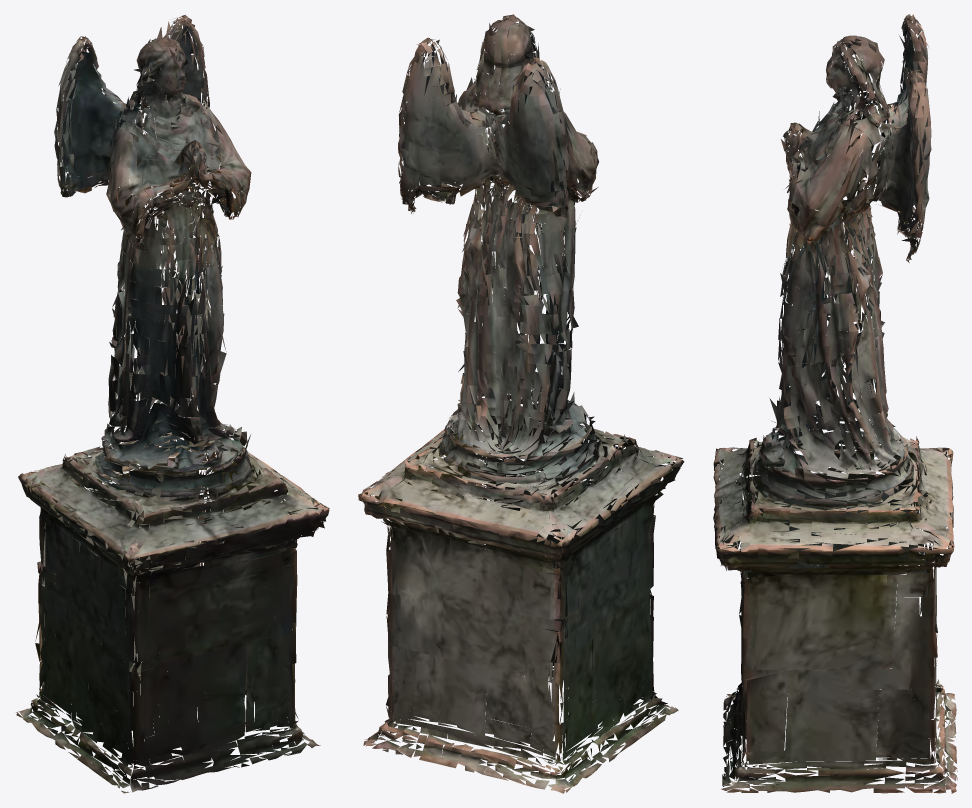
The model's file is t_angel_pedestal.glb.
3 views of the same model, side by side, from view 1: azimuth 30°, elevation 25°; view 2: azimuth 150°, elevation 25°; view 3: azimuth 270°, elevation 25° (orthographic). The views are drawn at different scales.
Parts seen in each view (by area): view 1: defaultMaterial; view 2: defaultMaterial; view 3: defaultMaterial.
Part boxes in pixels (x1,y1,x2,y2): defaultMaterial: [16, 15, 329, 793]; defaultMaterial: [358, 14, 684, 793]; defaultMaterial: [713, 14, 957, 793].
Bounding box in the file's own units: 0.7272 × 2.32 × 0.7191.
Materials: 1 (1 with a texture image).
